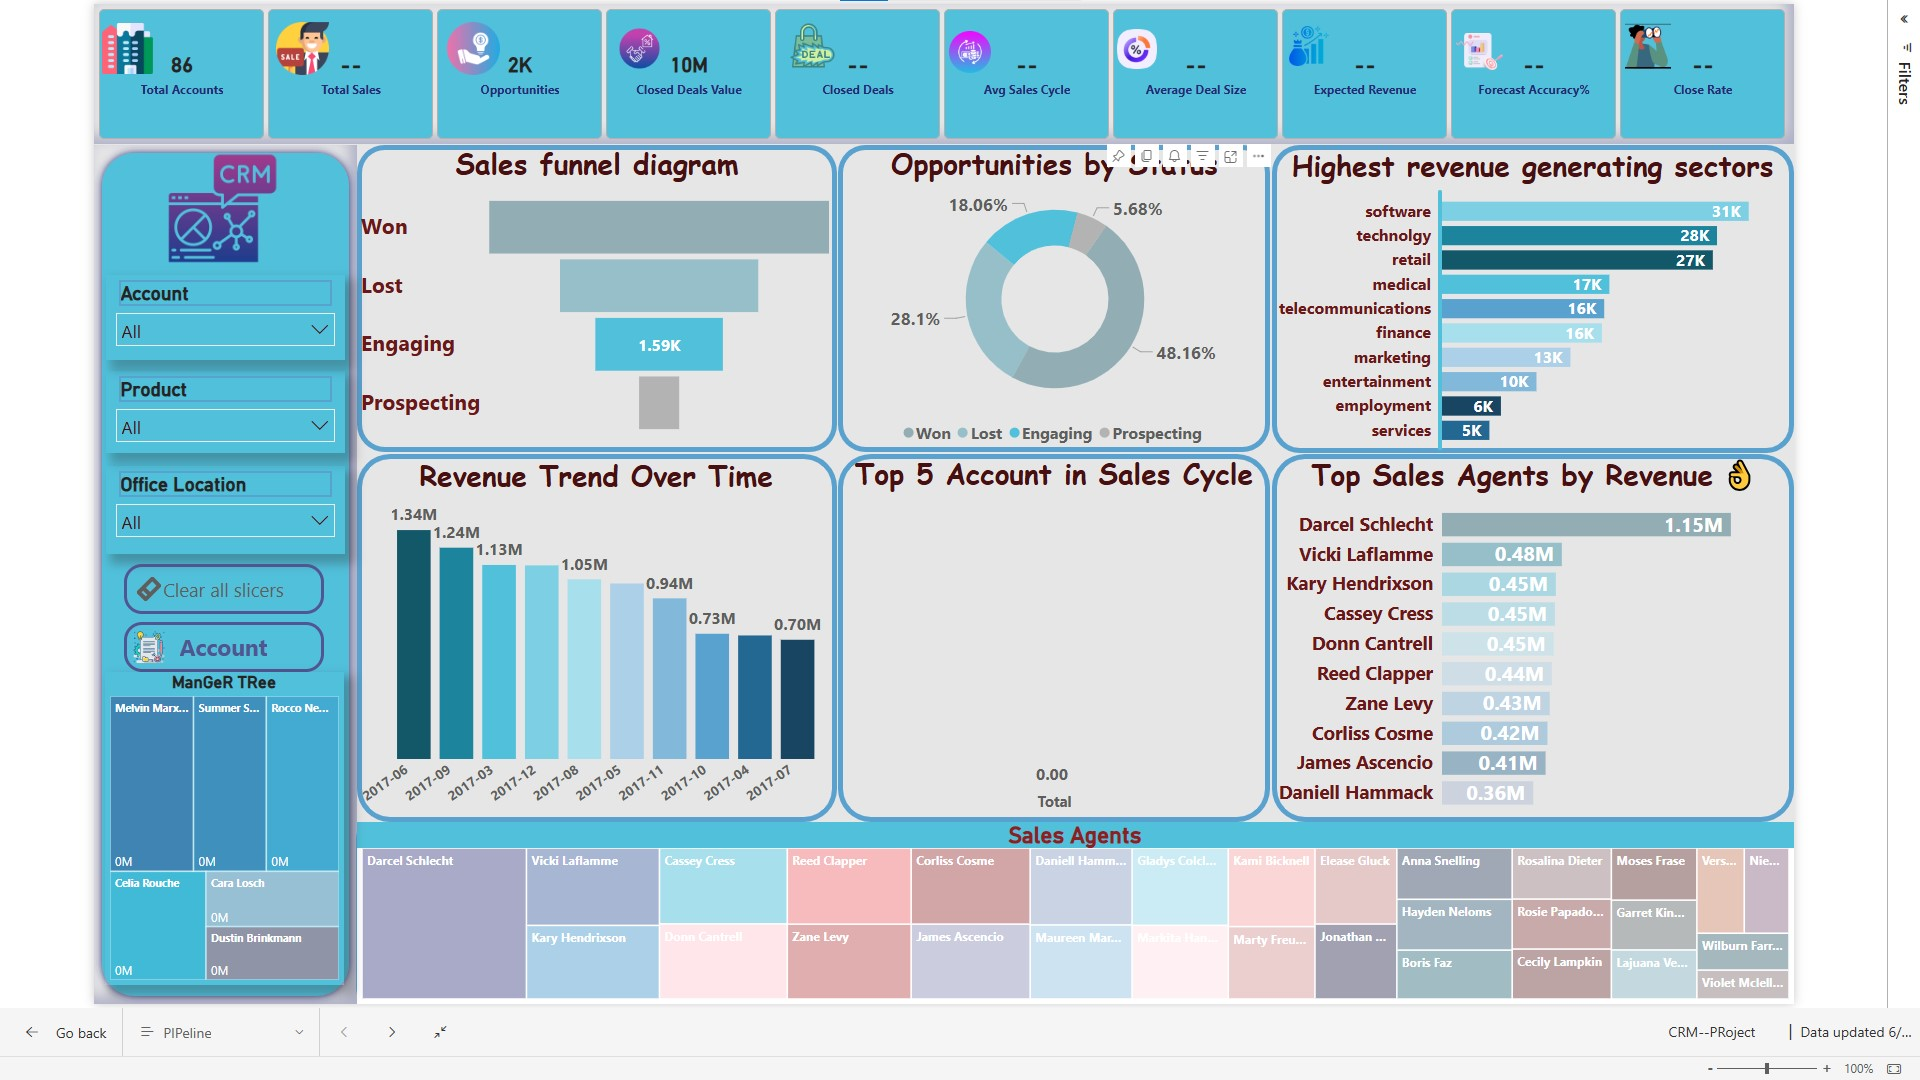

What the dashboard file says about the page in this screenshot:
{"tool":"powerbi","page":{"name":"PIPeline","canvas":[1700,1000],"ordinal":0},"visuals":[{"type":"shape","box":[0,141.5,263.4,858.5],"z":0},{"type":"shape","box":[744.3,140.9,431.6,306.8],"z":1000},{"type":"shape","box":[263.4,450,479.3,368.3],"z":2000},{"type":"shape","box":[262.8,140.9,480.1,306.8],"z":3000},{"type":"shape","box":[743.9,450,432,368.3],"z":4000},{"type":"shape","box":[1178,141.5,522,307.3],"z":5000},{"type":"shape","box":[1178,450,522,368.3],"z":6000},{"type":"shape","box":[264.2,819.2,1435.8,181.2],"z":7000},{"type":"cardVisual","fields":{"Data":["Calendar.Total Accounts","Calendar.Total Sales","Calendar.Total Opportunities","Calendar.Closed Deals Value","Calendar.Closed Deals","Calendar.Avg Sales Cycle","Calendar.Average Deal Size","Calendar.Expected Revenue","Calendar.Forecast Accuracy %","Calendar.Close Rate"]},"box":[0,0,1700,140.2],"z":8000},{"type":"funnel","title":"Sales funnel diagram","fields":{"Category":["sales_pipeline.Deal Stage"],"Y":["CountNonNull(sales_pipeline.Opportunity Id)"]},"box":[262.3,138.9,482.4,309.1],"z":9000},{"type":"barChart","title":"Highest revenue generating sectors","fields":{"Y":["Subsidiary Of.Total Revenue by Sector"],"Category":["Subsidiary Of.Sector"]},"box":[1178,141.5,522,309.8],"z":10000},{"type":"donutChart","title":"Opportunities by Status","fields":{"Category":["sales_pipeline.Deal Stage"],"Y":["CountNonNull(sales_pipeline.Opportunity Id)"]},"box":[743.9,139,434.1,309.8],"z":11000},{"type":"clusteredBarChart","title":"Top Sales Agents by Revenue 👌 ","fields":{"Category":["sales_pipeline.Sales Agent"],"Y":["Sum(sales_pipeline.Close Value)"]},"box":[1178,450,522,368.3],"z":12000},{"type":"lineStackedColumnComboChart","title":"Revenue Trend Over Time","fields":{"Category":["sales_pipeline.Close-Month"],"Y":["Calendar.Closed Deals Value"],"Y2":["Calendar.Total Sales"]},"box":[262.3,451.1,480.8,366.9],"z":13000},{"type":"waterfallChart","title":"Top 5 Account in Sales Cycle","fields":{"Category":["sales_pipeline.Account"],"Y":["Calendar.Avg Sales Cycle"]},"box":[742.7,448.8,435.4,369.5],"z":14000},{"type":"shape","box":[262.3,818,1437.7,182.6],"z":15000},{"type":"treemap","title":"Sales Agents","fields":{"Group":["sales_pipeline.Sales Agent"],"Values":["Sum(sales_pipeline.Close Value)"]},"box":[262.8,817.7,1437.2,182],"z":16000},{"type":"slicer","fields":{"Values":["sales_pipeline.Account"]},"box":[12.2,271.1,239.3,85.1],"z":17000},{"type":"slicer","fields":{"Values":["sales_pipeline.Product"]},"box":[12.2,366.6,239.3,82.2],"z":18000},{"type":"slicer","fields":{"Values":["Subsidiary Of.Office Location"]},"box":[12.2,462,239.3,88.1],"z":19000},{"type":"actionButton","box":[30.5,559.5,200,50],"z":21000},{"type":"actionButton","box":[30.5,618.1,200,50],"z":22000},{"type":"treemap","title":"ManGeR TRee","fields":{"Group":["sales_teams.Manager"],"Values":["Sum(sales_pipeline.Close Value)"]},"box":[10.7,668,239.6,313.2],"z":23000},{"type":"image","box":[10.4,138,240.3,130.5],"z":23001},{"type":"image","box":[3,3,60.8,81.6],"z":23002},{"type":"image","box":[172.1,13.4,72.7,62.3],"z":23003},{"type":"image","box":[344.2,13.4,71.2,62.3],"z":23004},{"type":"image","box":[510.3,19.3,71.2,50.4],"z":23005},{"type":"image","box":[676.4,13.4,86,56.4],"z":23006},{"type":"image","box":[850,19.3,51.9,56.4],"z":23007},{"type":"image","box":[1017.6,13.4,50.4,62.3],"z":23008},{"type":"image","box":[1189.7,13.4,50.4,56.4],"z":23009},{"type":"image","box":[1357.3,19.3,56.4,56.4],"z":23010},{"type":"image","box":[1525.8,12.8,56.4,57.6],"z":23011}]}

Visuals, with their boxes on the page's 1700x1000 design canvas (x1, y1, x2, y2). These are canvas units, not pixel positions in the 1920x1080 screenshot, which may show the page scaled, cropped or inside an application window:
shape: bbox=(0, 142, 263, 1000)
shape: bbox=(744, 141, 1176, 448)
shape: bbox=(263, 450, 743, 818)
shape: bbox=(263, 141, 743, 448)
shape: bbox=(744, 450, 1176, 818)
shape: bbox=(1178, 142, 1700, 449)
shape: bbox=(1178, 450, 1700, 818)
shape: bbox=(264, 819, 1700, 1000)
cardVisual - Calendar.Total Accounts x Calendar.Total Sales: bbox=(0, 0, 1700, 140)
"Sales funnel diagram" funnel: bbox=(262, 139, 745, 448)
"Highest revenue generating sectors" barChart: bbox=(1178, 142, 1700, 451)
"Opportunities by Status" donutChart: bbox=(744, 139, 1178, 449)
"Top Sales Agents by Revenue 👌 " clusteredBarChart: bbox=(1178, 450, 1700, 818)
"Revenue Trend Over Time" lineStackedColumnComboChart: bbox=(262, 451, 743, 818)
"Top 5 Account in Sales Cycle" waterfallChart: bbox=(743, 449, 1178, 818)
shape: bbox=(262, 818, 1700, 1001)
"Sales Agents" treemap: bbox=(263, 818, 1700, 1000)
slicer - sales_pipeline.Account: bbox=(12, 271, 252, 356)
slicer - sales_pipeline.Product: bbox=(12, 367, 252, 449)
slicer - Subsidiary Of.Office Location: bbox=(12, 462, 252, 550)
actionButton: bbox=(30, 560, 230, 610)
actionButton: bbox=(30, 618, 230, 668)
"ManGeR TRee" treemap: bbox=(11, 668, 250, 981)
image: bbox=(10, 138, 251, 268)
image: bbox=(3, 3, 64, 85)
image: bbox=(172, 13, 245, 76)
image: bbox=(344, 13, 415, 76)
image: bbox=(510, 19, 582, 70)
image: bbox=(676, 13, 762, 70)
image: bbox=(850, 19, 902, 76)
image: bbox=(1018, 13, 1068, 76)
image: bbox=(1190, 13, 1240, 70)
image: bbox=(1357, 19, 1414, 76)
image: bbox=(1526, 13, 1582, 70)
